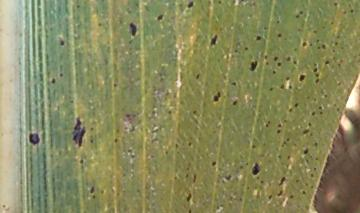tarspot: (70, 115, 87, 148), (28, 131, 41, 145), (251, 161, 261, 177), (128, 21, 138, 37), (212, 90, 222, 104), (56, 34, 67, 46), (209, 33, 218, 47), (277, 176, 287, 187), (142, 3, 152, 14), (249, 59, 258, 71), (78, 157, 85, 169), (185, 191, 192, 203), (298, 73, 307, 82), (223, 173, 232, 182), (156, 13, 164, 22), (331, 1, 341, 8), (128, 124, 135, 134), (89, 184, 95, 195), (186, 1, 194, 9), (276, 189, 284, 197), (275, 61, 283, 69), (312, 77, 320, 85), (88, 125, 96, 133), (301, 128, 310, 135), (278, 82, 285, 91), (250, 142, 257, 151), (264, 120, 271, 129), (320, 42, 327, 51), (191, 173, 197, 183), (302, 147, 309, 155), (254, 34, 262, 41), (276, 31, 283, 39), (229, 80, 237, 87), (191, 108, 198, 116), (165, 108, 172, 116), (123, 112, 131, 119), (74, 3, 82, 10), (276, 153, 283, 161), (126, 38, 134, 45), (50, 76, 56, 85), (287, 82, 293, 91), (173, 142, 179, 151), (125, 148, 134, 154), (236, 1, 246, 6), (210, 160, 217, 167), (323, 59, 330, 66), (272, 55, 279, 62), (291, 59, 298, 66), (284, 55, 291, 62), (312, 141, 319, 148), (263, 60, 270, 67), (317, 110, 324, 117), (311, 66, 318, 73), (288, 193, 295, 200), (285, 154, 292, 161), (262, 25, 269, 32), (295, 27, 302, 34), (301, 40, 307, 48), (194, 72, 200, 80), (283, 75, 291, 81), (270, 69, 278, 75), (267, 86, 275, 92), (310, 110, 316, 118), (275, 18, 281, 26), (237, 164, 245, 170), (267, 193, 273, 200), (232, 99, 238, 106), (293, 102, 299, 109), (187, 140, 193, 147), (68, 98, 74, 105), (306, 120, 312, 127), (233, 47, 239, 54), (96, 21, 103, 27), (316, 105, 323, 111), (297, 9, 303, 16), (309, 183, 315, 190), (285, 136, 291, 143), (335, 105, 341, 112), (312, 28, 318, 35), (164, 149, 170, 156), (129, 153, 136, 159), (332, 40, 338, 47), (328, 19, 334, 26), (314, 37, 320, 44), (292, 46, 298, 53), (237, 196, 243, 203), (113, 136, 118, 144), (89, 137, 94, 145), (349, 7, 354, 15), (58, 72, 64, 78), (275, 128, 281, 134), (276, 123, 282, 129), (112, 82, 118, 88), (243, 45, 249, 51), (287, 107, 293, 113), (262, 54, 268, 60), (294, 13, 300, 19), (314, 73, 320, 79), (309, 173, 315, 179), (304, 158, 310, 164), (303, 181, 309, 187), (322, 93, 328, 99), (183, 173, 189, 179), (330, 48, 336, 54), (187, 206, 192, 213), (301, 189, 306, 196), (308, 41, 313, 48), (312, 96, 317, 103), (229, 1, 236, 6), (312, 166, 317, 172), (294, 178, 300, 183), (259, 179, 264, 185), (316, 45, 321, 50), (244, 161, 249, 166), (217, 1, 223, 5)
